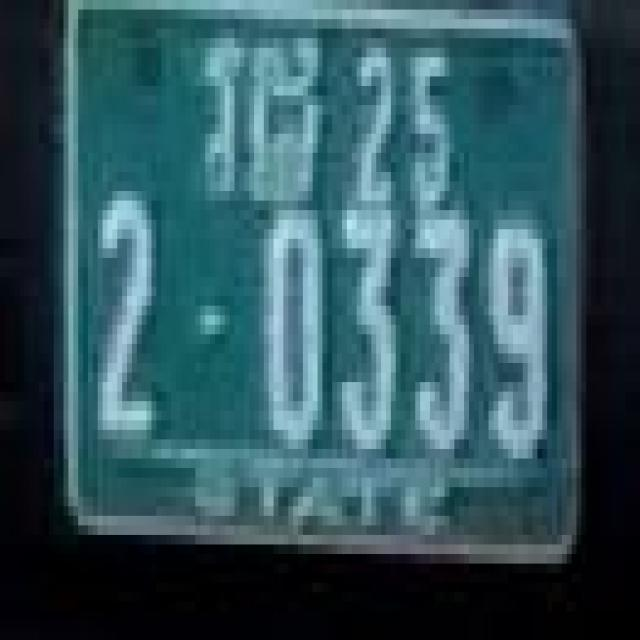State: (201, 38, 325, 208)
